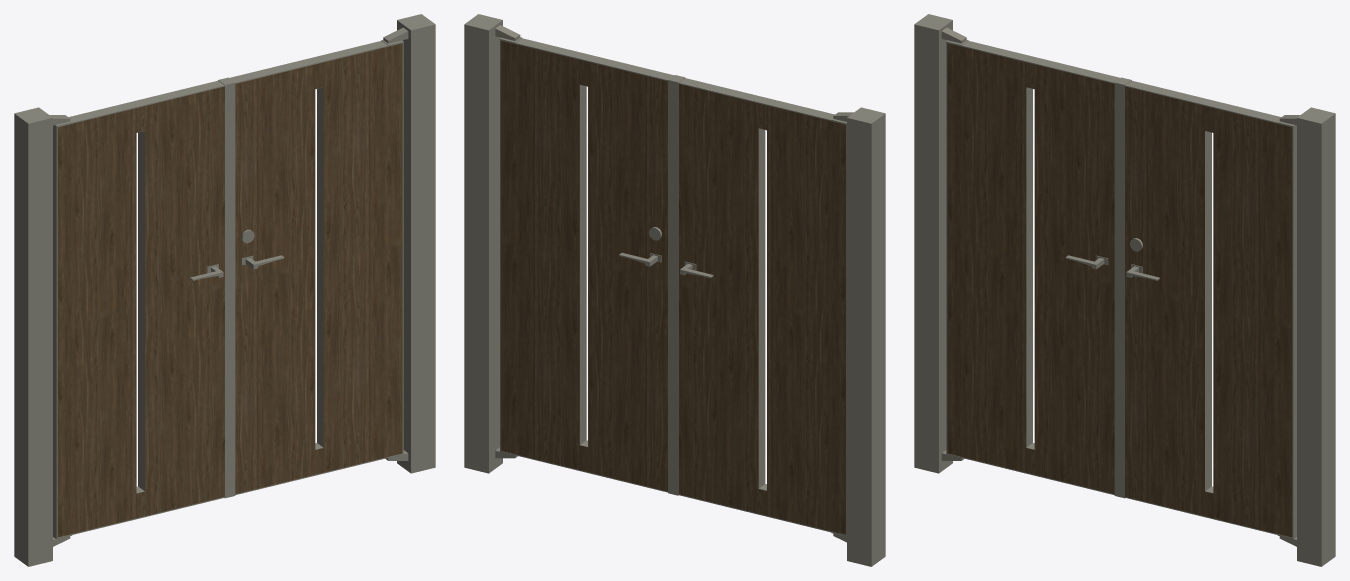
The model's file is 07-07-16_brownebony.fbx.
3 views of the same model, side by side, from view 1: azimuth 30°, elevation 25°; view 2: azimuth 150°, elevation 25°; view 3: azimuth 330°, elevation 25° (orthographic).
Parts seen in each view (by area): view 1: 07-07-16brownebony; view 2: 07-07-16brownebony; view 3: 07-07-16brownebony.
Part boxes in pixels (box(x1,y1,x2,y2)): 07-07-16brownebony: box(14, 14, 435, 566); 07-07-16brownebony: box(464, 14, 885, 566); 07-07-16brownebony: box(914, 14, 1335, 566).
Bounding box in the file's own units: 165 × 172 × 16.7.
Materials: 2 (2 with a texture image).
